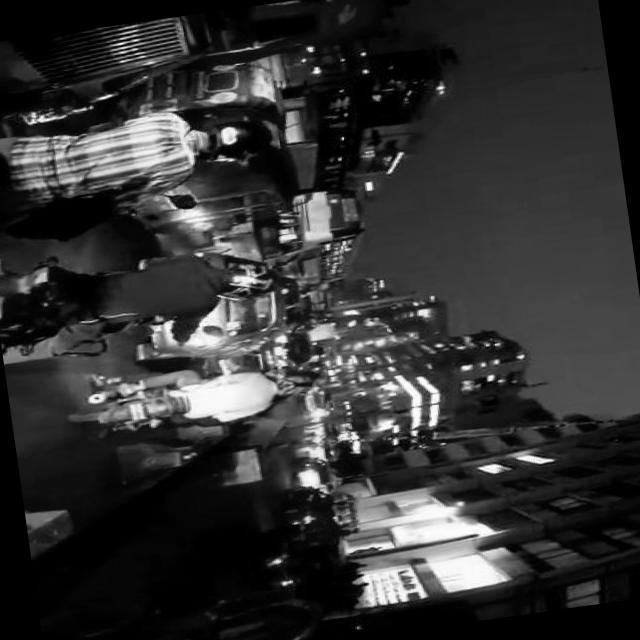bus: (191, 0, 393, 71), (285, 49, 376, 194), (292, 186, 377, 286)
car: (132, 241, 294, 370), (280, 482, 342, 531), (261, 330, 318, 373), (294, 454, 336, 494)
motorcycle: (0, 228, 231, 371), (0, 110, 202, 241), (110, 108, 306, 240), (0, 14, 212, 133), (128, 59, 290, 150), (66, 587, 331, 640), (65, 379, 191, 442), (256, 516, 354, 592)
truck: (210, 208, 314, 281), (280, 96, 331, 194)
